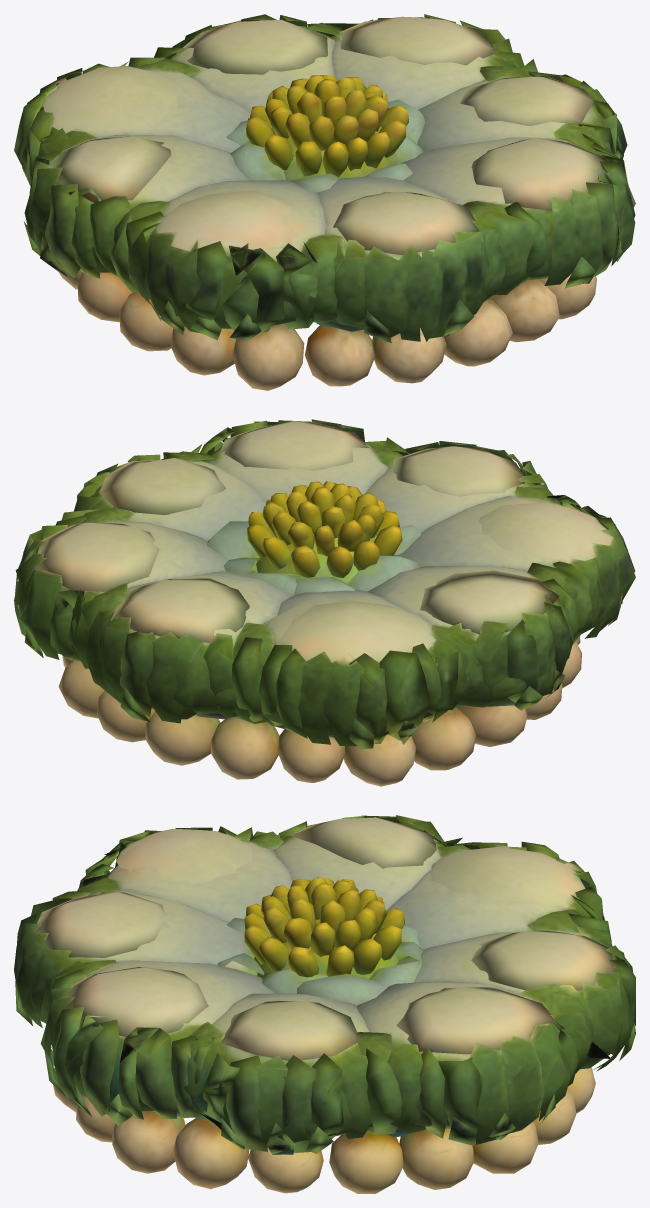
File: veg-moss.glb
3 views of the same model, one above another, from view 1: azimuth 30°, elevation 25°; view 2: azimuth 150°, elevation 25°; view 3: azimuth 270°, elevation 25° (orthographic). The views are drawn at different scales.
Visible parts, largest first — view 1: Mesh_0; view 2: Mesh_0; view 3: Mesh_0.
Boxes of the visible parts, box(x1,y1,x2,y2) form: Mesh_0: box(14, 14, 635, 390); Mesh_0: box(14, 419, 635, 786); Mesh_0: box(14, 815, 635, 1193).
Size of the model in its own units: 1 by 0.3809 by 1.
Materials: 1 (1 with a texture image).
